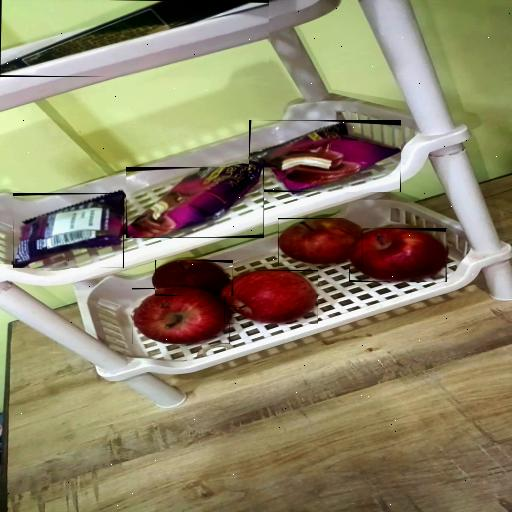Apple: (132, 288, 230, 344), (350, 228, 448, 282), (224, 270, 318, 324), (278, 218, 363, 266), (155, 260, 233, 296)
Choco Fills: (0, 0, 269, 77)
Choco Pie: (249, 120, 401, 192), (126, 167, 264, 238), (13, 193, 124, 268)
